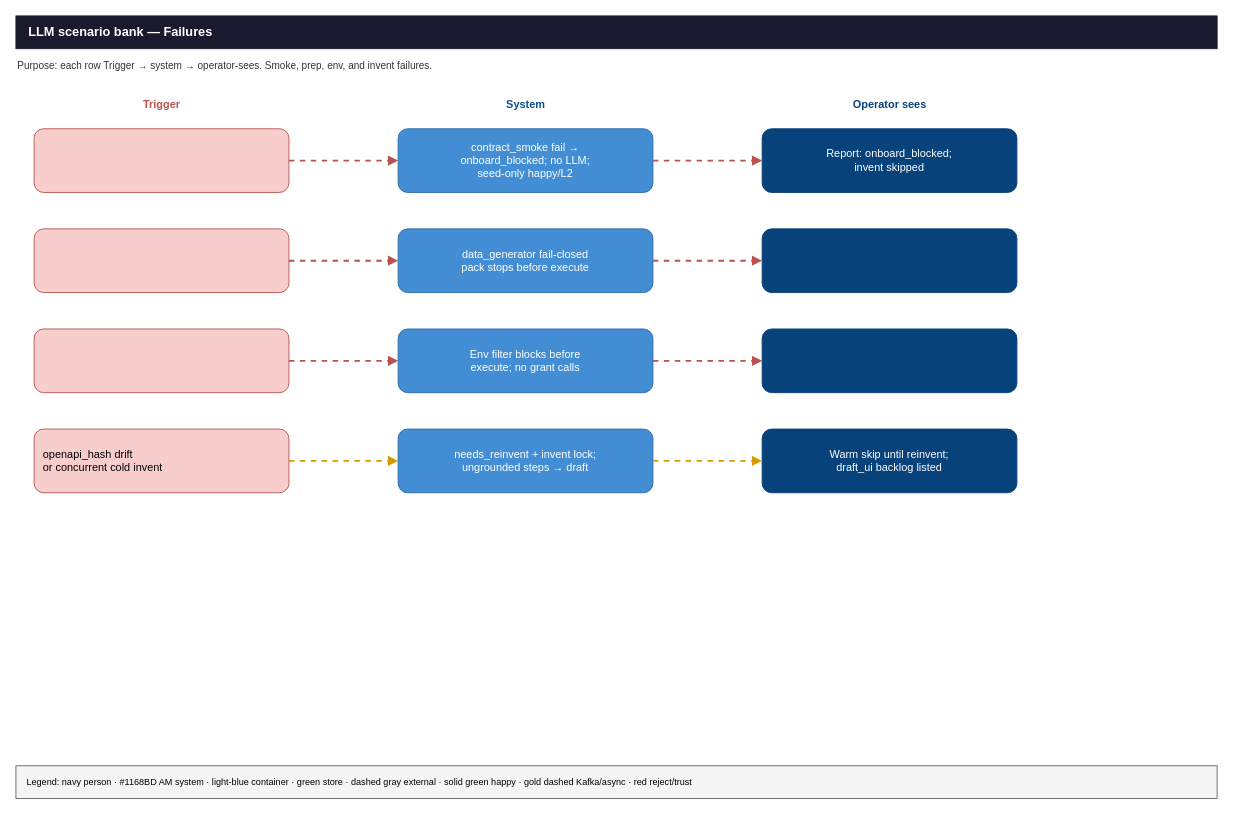
The diagram is 1233 pixels wide and 814 high, and some of its shapes have lost their labels. The centre of each missing label's shape, as x and y in pixels:
Contabo prod selects L5 / security / mutate: point 161,360
dev prep login/me fail or ensure tool missing: point 161,260
NO_GO; prep status in report: point 889,260
OpenAPI HTML / 401 / tools[] empty: point 161,160
Skill skipped in matrix; prod book untouched: point 889,360
